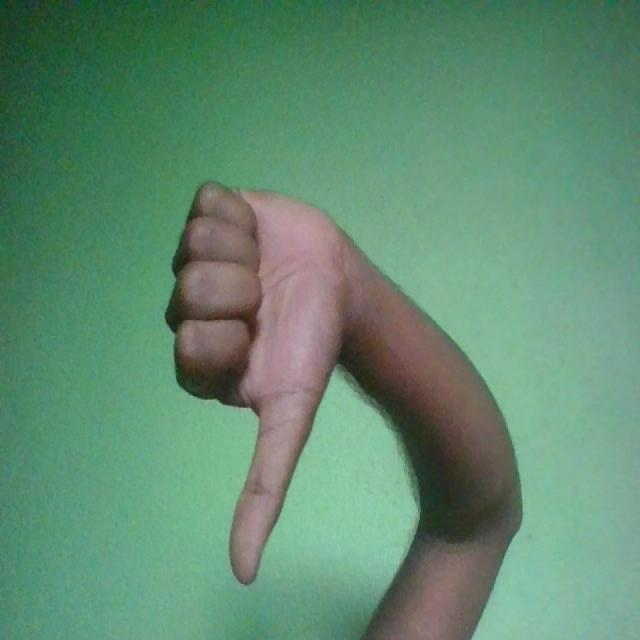Dislike: (167, 180, 356, 586)
